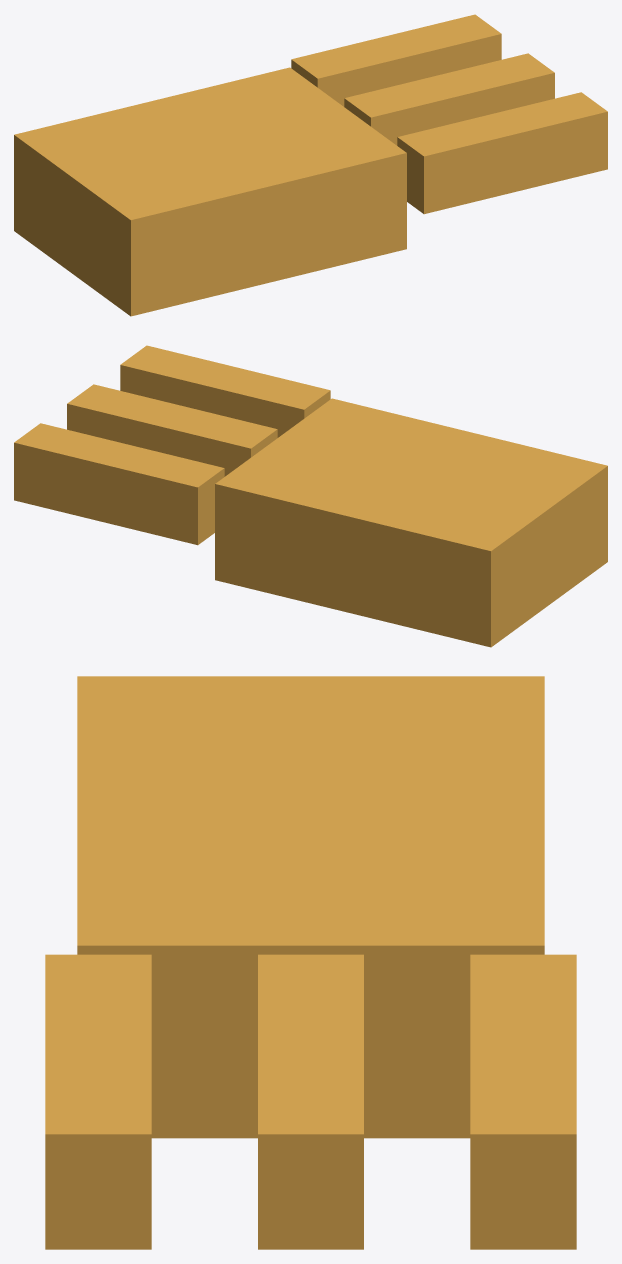
File: product_fish_and_chips.glb
3 renders of one model, top to bottom at view 1: azimuth 30°, elevation 25°; view 2: azimuth 150°, elevation 25°; view 3: azimuth 270°, elevation 25°, orthographic. The views are drawn at different scales.
Visible parts, largest first — view 1: product.fish_and_chips; view 2: product.fish_and_chips; view 3: product.fish_and_chips.
Boxes of the visible parts, bbox=[...] form: product.fish_and_chips: bbox=[14, 14, 607, 316]; product.fish_and_chips: bbox=[14, 345, 607, 647]; product.fish_and_chips: bbox=[45, 676, 576, 1249].
Size of the model in its own units: 0.24 by 0.0471 by 0.1176.
